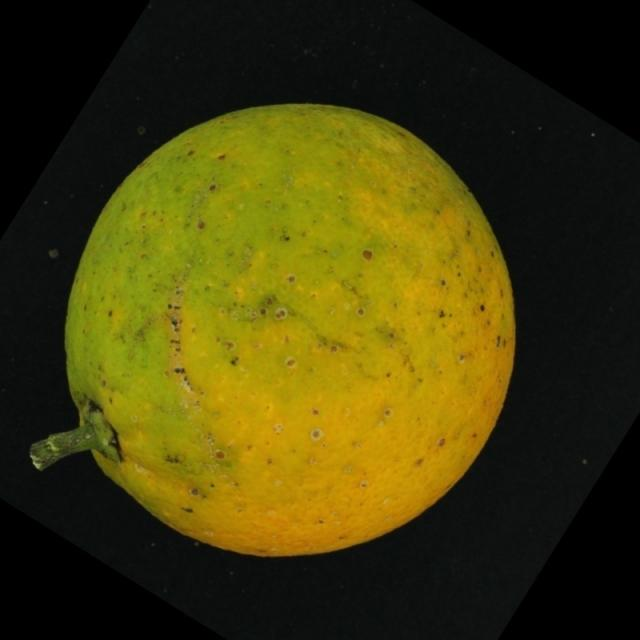grenning: (30, 72, 534, 586)
